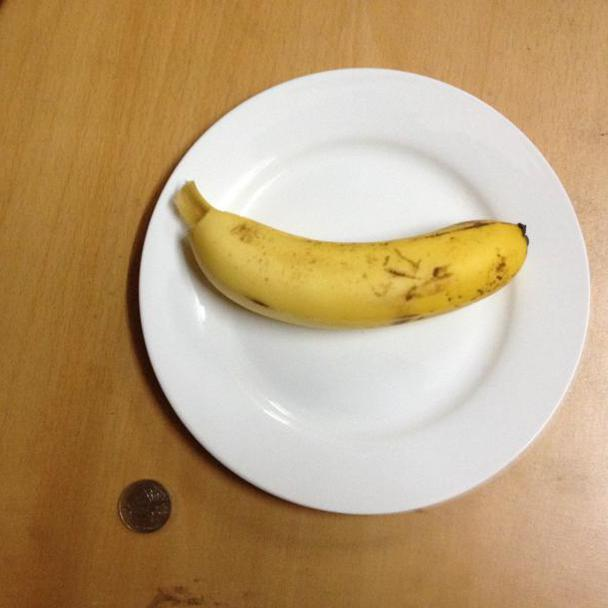banana: (166, 169, 547, 331)
